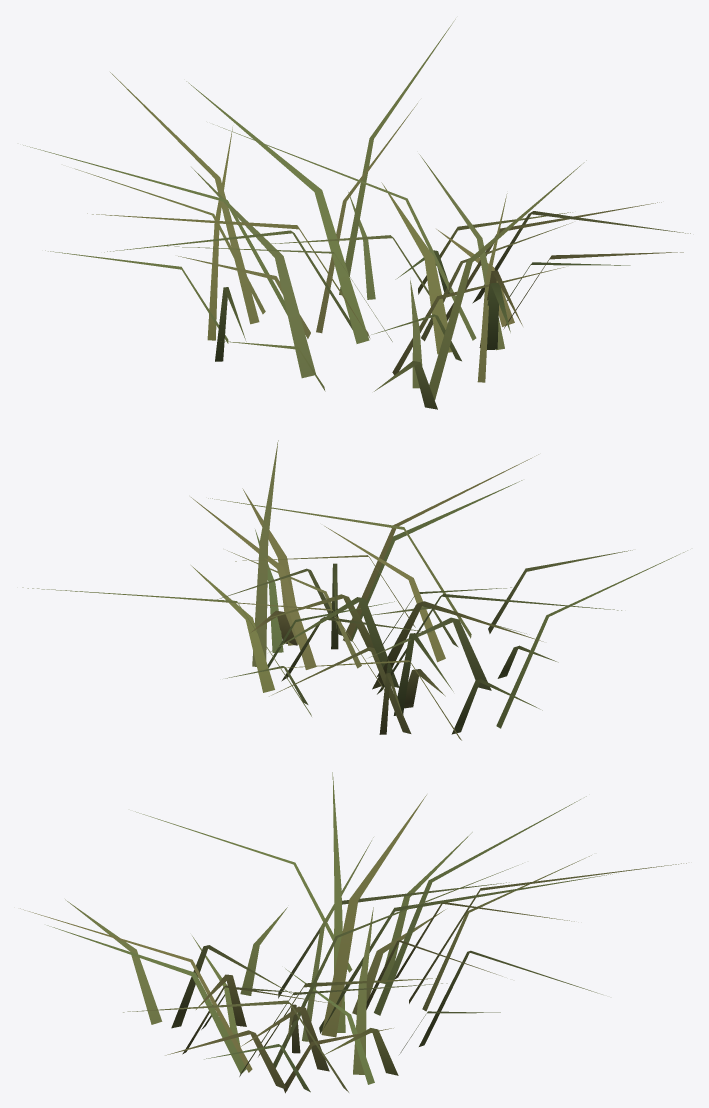
File: grass-edge-lod2.glb
3 renders of one model, top to bottom at view 1: azimuth 30°, elevation 25°; view 2: azimuth 150°, elevation 25°; view 3: azimuth 270°, elevation 25°, orthographic. The views are drawn at different scales.
Visible parts, largest first — view 1: grass-edge-lod2 foliage; view 2: grass-edge-lod2 foliage; view 3: grass-edge-lod2 foliage.
Part boxes in pixels (left/top/right/bottom): grass-edge-lod2 foliage: left=23, top=19, right=690, bottom=409; grass-edge-lod2 foliage: left=22, top=440, right=687, bottom=740; grass-edge-lod2 foliage: left=20, top=772, right=686, bottom=1093.
Bounding box in the file's own units: 0.8222 × 0.2376 × 0.981.
